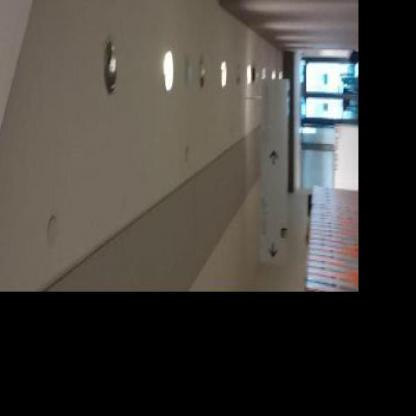light_off: (88, 28, 130, 104), (191, 46, 209, 101)
